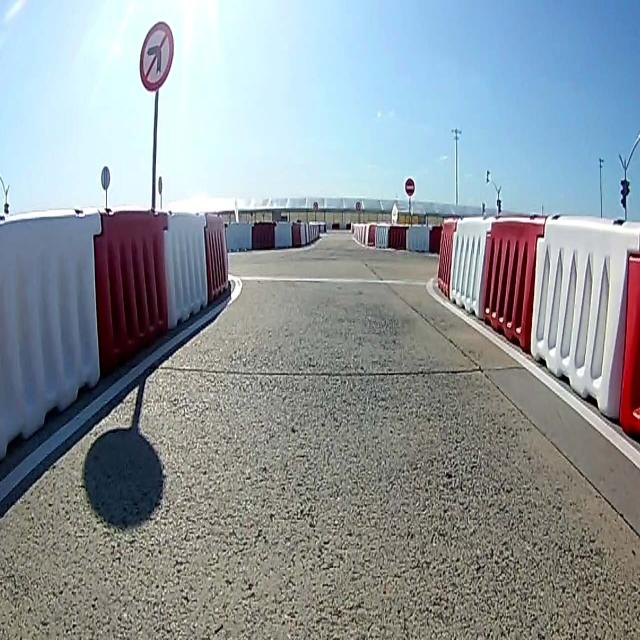girisyok: (403, 173, 417, 200)
soladonulmez: (140, 20, 174, 90)
